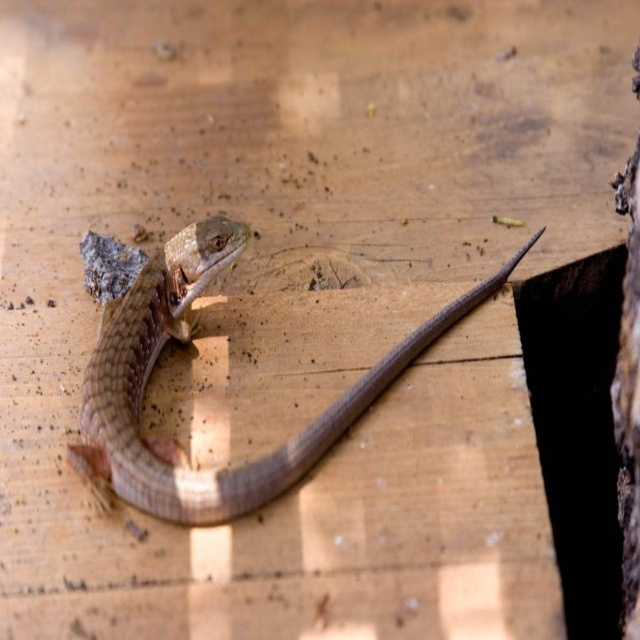Lizard: (79, 218, 546, 526)
